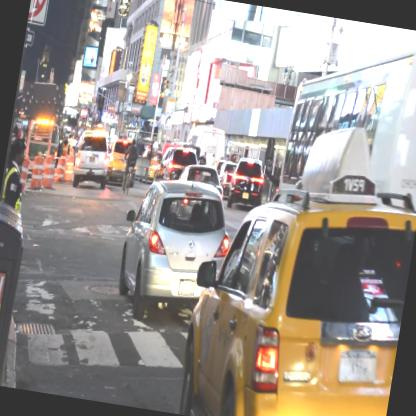bus: (277, 20, 415, 217)
car: (176, 175, 415, 415), (112, 173, 237, 332), (70, 128, 114, 194), (227, 156, 269, 212), (102, 136, 140, 188), (154, 144, 200, 182)
